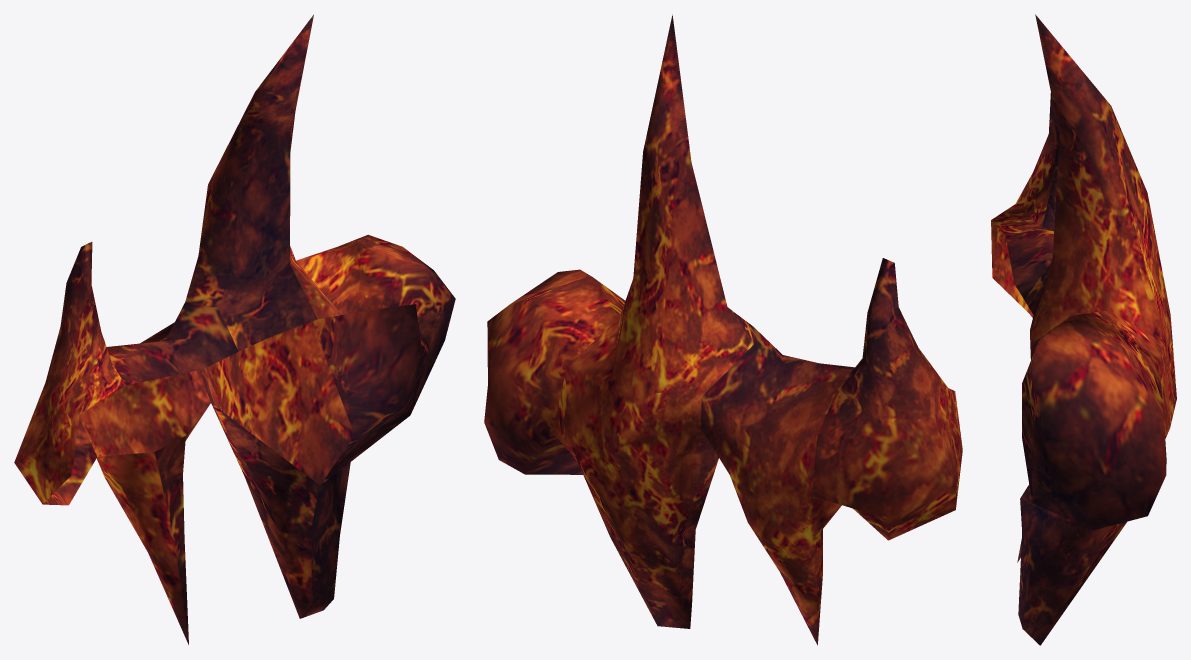
The model's file is Scene_rongyan_004.FBX.
3 views of the same model, side by side, from view 1: azimuth 30°, elevation 25°; view 2: azimuth 150°, elevation 25°; view 3: azimuth 270°, elevation 25° (orthographic). The views are drawn at different scales.
Parts seen in each view (by area): view 1: Scene_rongyan_004; view 2: Scene_rongyan_004; view 3: Scene_rongyan_004.
Part boxes in pixels (x1,y1,x2,y2): Scene_rongyan_004: (14, 14, 455, 644); Scene_rongyan_004: (484, 14, 962, 645); Scene_rongyan_004: (991, 14, 1176, 645).
Size of the model in its own units: 6.56 by 8.57 by 2.31.
